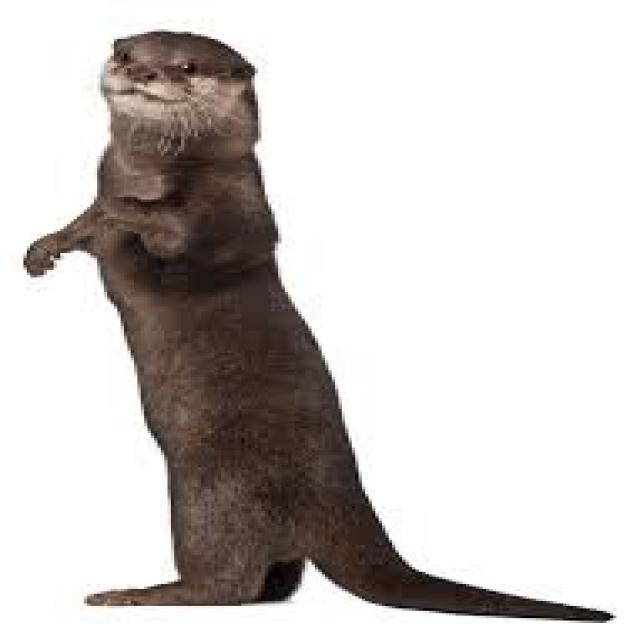Otter: (21, 21, 619, 624)
